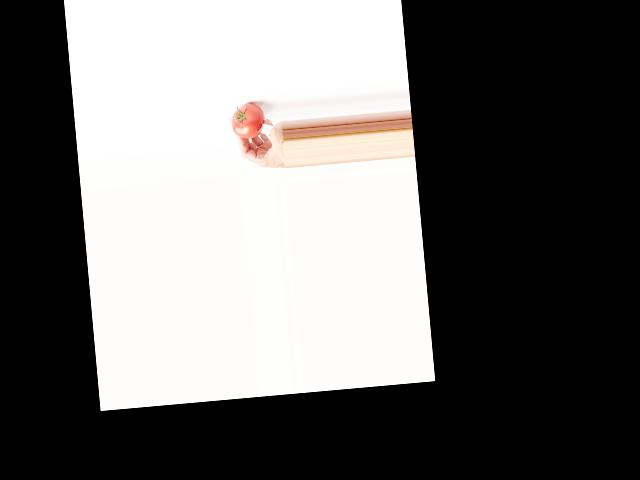tomato: (230, 102, 266, 140)
